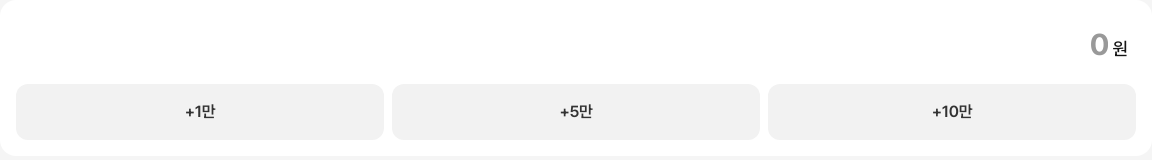
Scenario: AmountDisplay › 빠른 더하기를 눌러도 금액 칸 포커스가 그대로라 키패드가 닫히지 않는다
The image size is (1152, 160).
Click the field named "얼마인가요?": (566, 44) [24,16,1108,72]
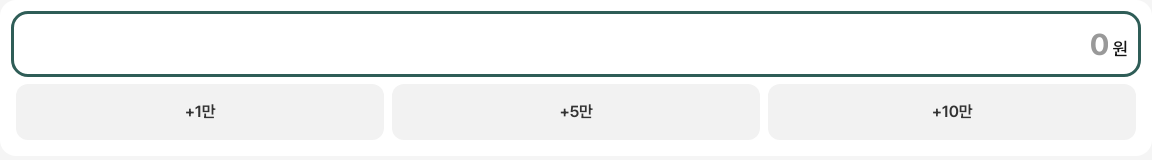
Click the button named "1만 원 더하기": (200, 112) [16,84,384,140]
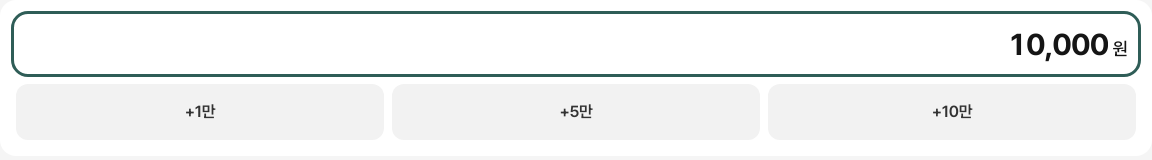
Expected: the field named "얼마인가요?" holds "10,000", [24,16,1108,72]
